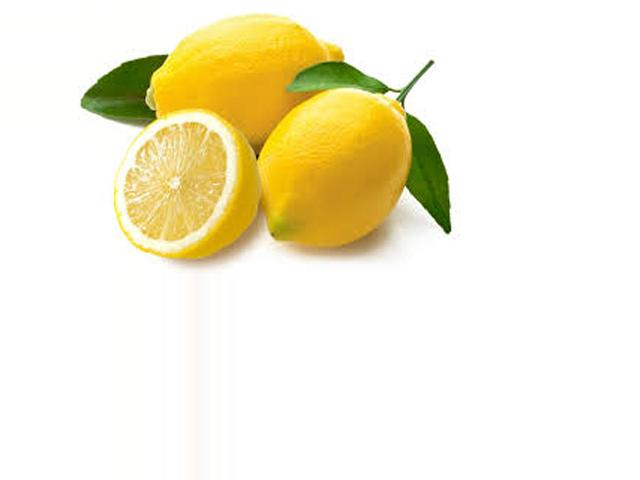lemon: (153, 5, 351, 157)
